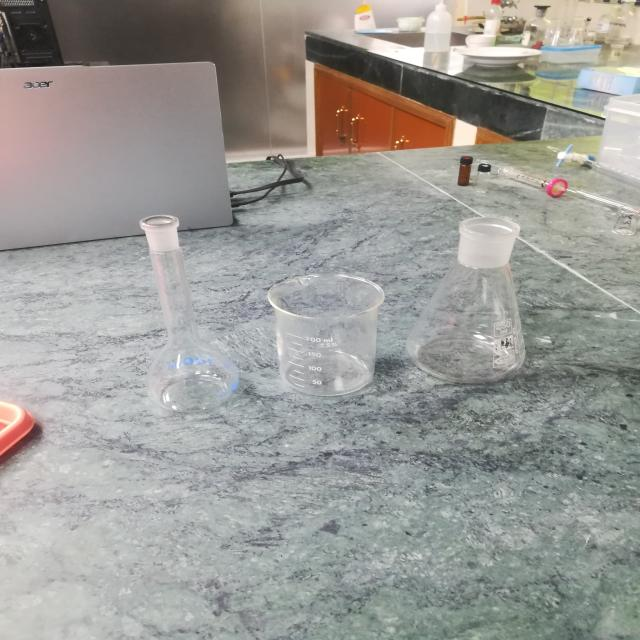Beaker: (265, 241, 394, 408)
Conical_Flask: (407, 195, 547, 392)
Volumetric_Flask: (140, 160, 248, 436)
